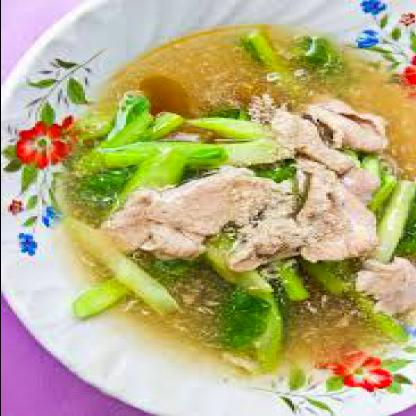Laadna: (43, 21, 397, 395)
